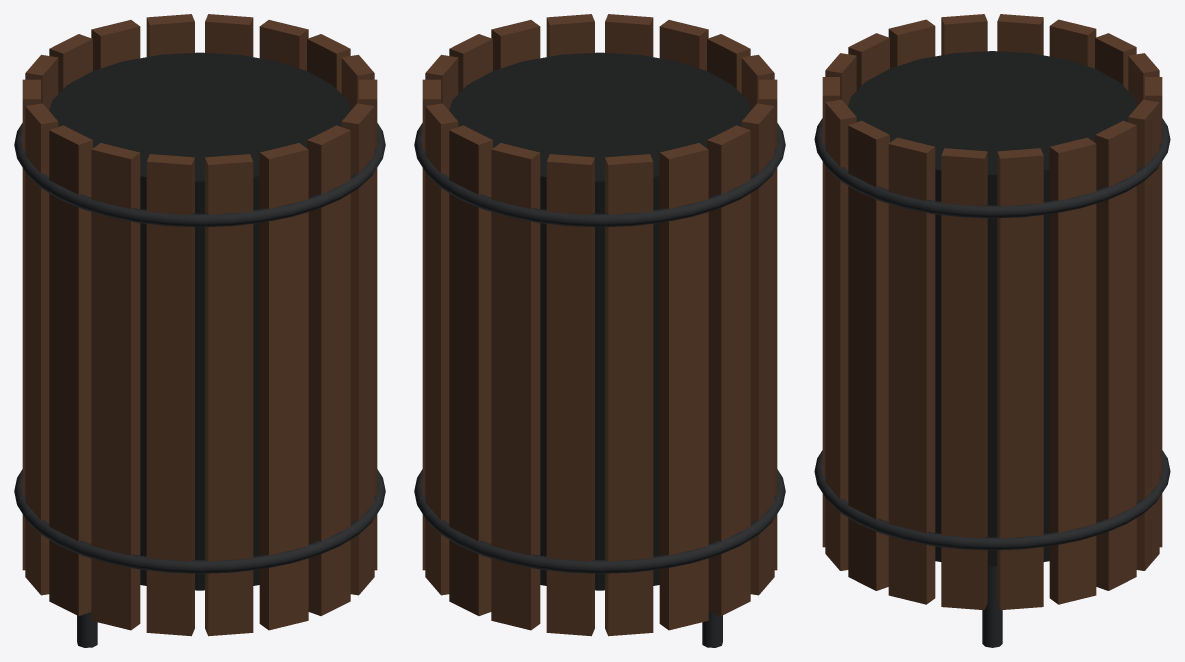
The model's file is bin.glb.
The picture shows the model from 3 angles, left to right: view 1: azimuth 30°, elevation 25°; view 2: azimuth 150°, elevation 25°; view 3: azimuth 270°, elevation 25°; orthographic projection. The views are drawn at different scales.
Visible parts, largest first — view 1: bin-slat, bin-liner, bin-hoop; view 2: bin-slat, bin-liner, bin-hoop; view 3: bin-slat, bin-liner, bin-hoop.
Boxes of the visible parts, <box> form: bin-slat: <box>22,14,377,636</box>; bin-liner: <box>49,52,350,590</box>; bin-hoop: <box>14,123,385,647</box>; bin-slat: <box>422,14,777,636</box>; bin-liner: <box>449,52,750,590</box>; bin-hoop: <box>414,123,785,647</box>; bin-slat: <box>822,14,1162,610</box>; bin-liner: <box>848,51,1136,566</box>; bin-hoop: <box>814,118,1170,647</box>.
Bounding box in the file's own units: 0.486 × 0.76 × 0.486.
